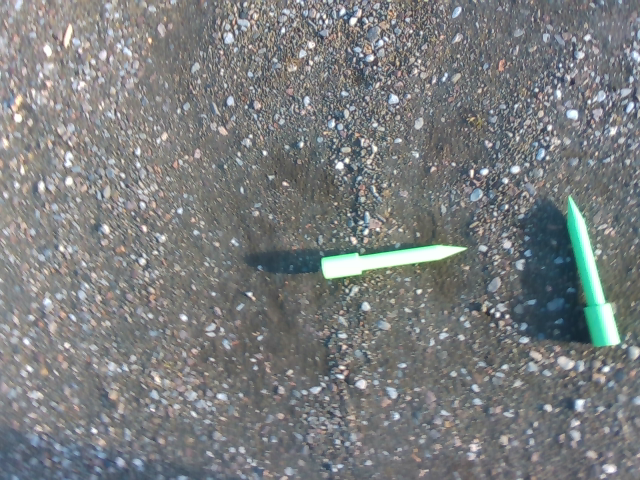Probe: (561, 189, 627, 352), (315, 238, 474, 281)
